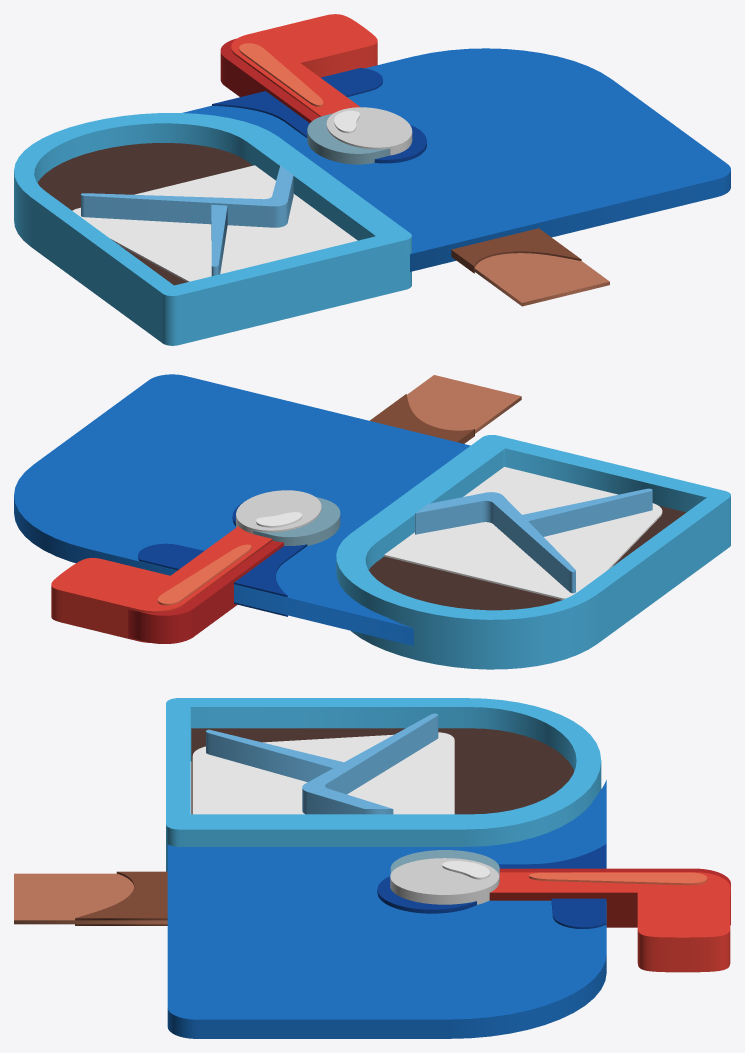
File: emoji_u1f4ec.glb
3 views of the same model, one above another, from view 1: azimuth 30°, elevation 25°; view 2: azimuth 150°, elevation 25°; view 3: azimuth 270°, elevation 25° (orthographic). The views are drawn at different scales.
Parts seen in each view (by area): view 1: emoji_u1f4ec; view 2: emoji_u1f4ec; view 3: emoji_u1f4ec.
Boxes of the visible parts, x1,y1,x2,y2 form: emoji_u1f4ec: (14, 14, 730, 345); emoji_u1f4ec: (14, 374, 730, 669); emoji_u1f4ec: (14, 698, 730, 1038).
Bounding box in the file's own units: 0.0337 × 0.0032 × 0.0336.
